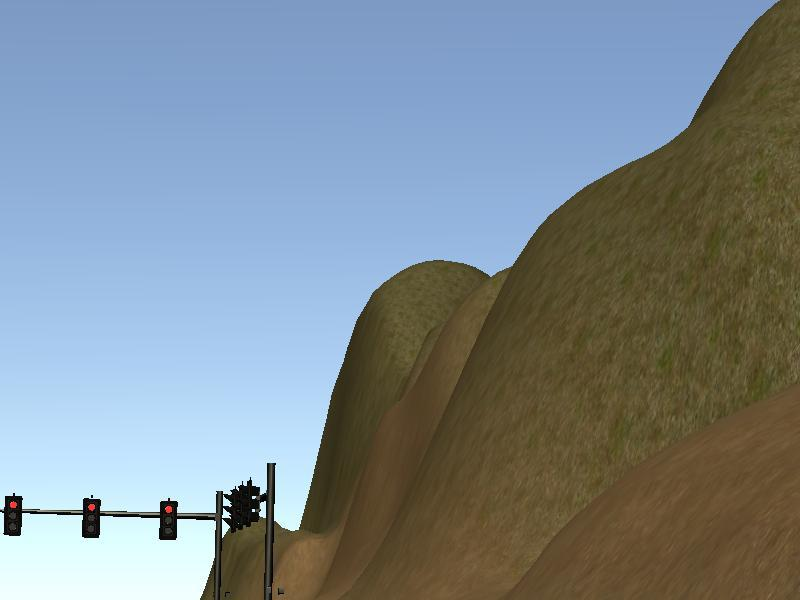Red: (159, 500, 177, 540), (81, 499, 98, 537), (4, 496, 21, 534)
